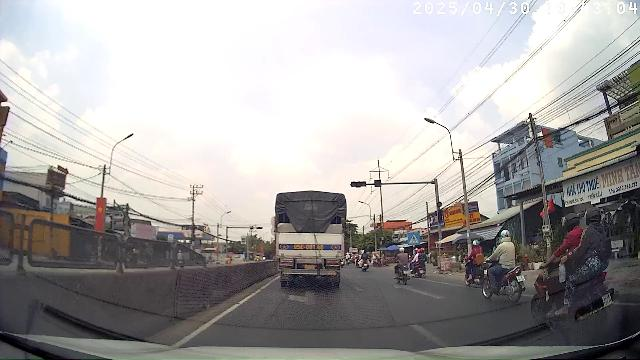423a-duong-nguoi-di-bo-sang-ngang-1: (408, 232, 420, 243)
